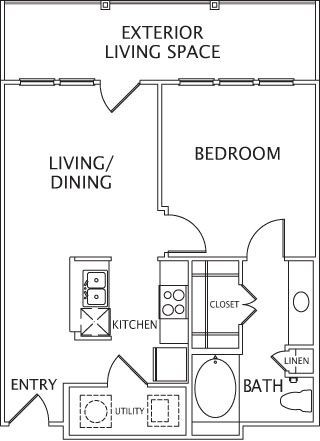door: (245, 216, 289, 259), (169, 213, 207, 258), (99, 79, 150, 111), (10, 395, 50, 427), (111, 356, 147, 387), (242, 285, 256, 326)
room: (8, 90, 157, 385), (163, 90, 317, 258), (244, 263, 318, 422)
wall: (2, 81, 7, 427), (314, 82, 319, 427), (64, 435, 221, 441), (188, 258, 193, 438), (156, 83, 163, 209), (241, 418, 314, 428), (63, 384, 73, 441), (156, 257, 249, 263), (193, 346, 246, 356), (67, 381, 106, 387), (142, 79, 177, 85), (294, 79, 320, 87), (237, 323, 243, 353), (285, 258, 320, 263), (286, 344, 315, 350)
window: (181, 75, 292, 88), (15, 81, 97, 86)
